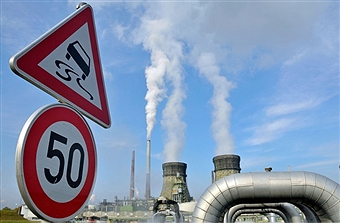Speed_limit_50km: (16, 102, 102, 222)
